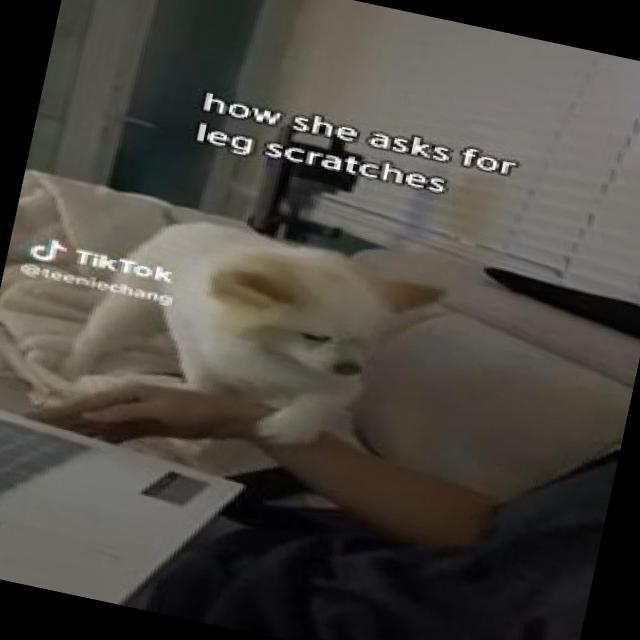dog: (130, 199, 455, 473)
